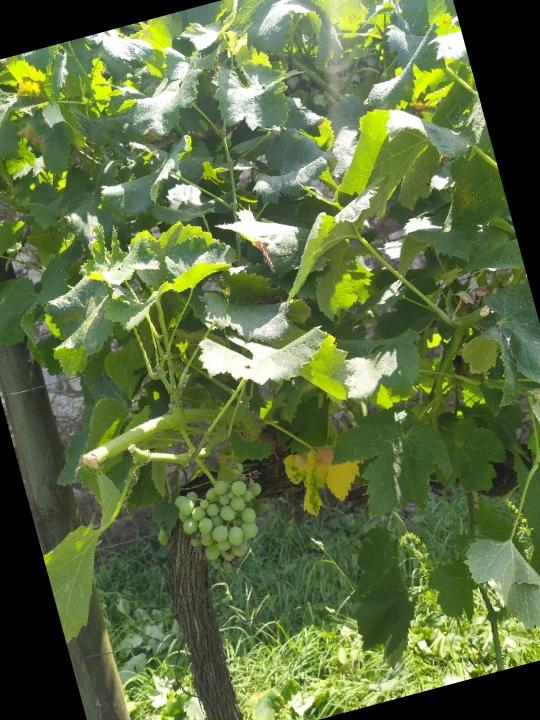grape: (170, 469, 283, 584)
